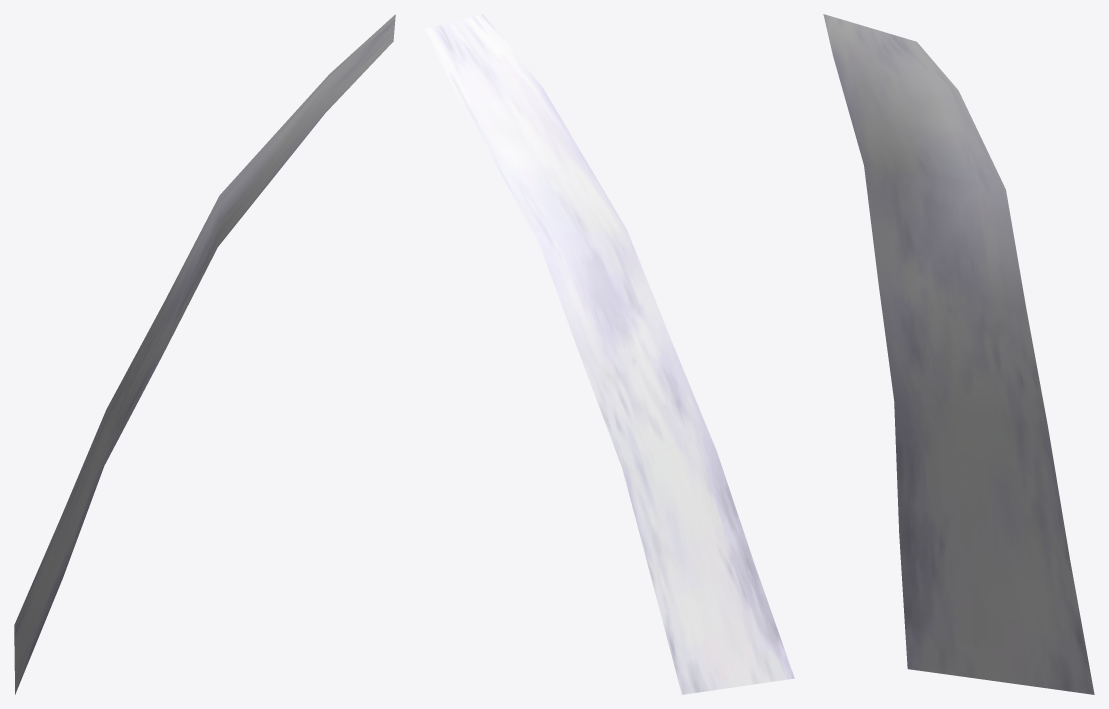
File: OM_p_a_river_08f_00_17_0_13.fbx
The picture shows the model from 3 angles, left to right: view 1: azimuth 30°, elevation 25°; view 2: azimuth 150°, elevation 25°; view 3: azimuth 270°, elevation 25°; orthographic projection. The views are drawn at different scales.
Visible parts, largest first — view 1: OM_p_a_river_08f_00_17_0_13; view 2: OM_p_a_river_08f_00_17_0_13; view 3: OM_p_a_river_08f_00_17_0_13.
Boxes of the visible parts, x1=… form: OM_p_a_river_08f_00_17_0_13: x1=14, y1=14, x2=395, y2=694; OM_p_a_river_08f_00_17_0_13: x1=424, y1=14, x2=794, y2=694; OM_p_a_river_08f_00_17_0_13: x1=823, y1=14, x2=1094, y2=694.
Size of the model in its own units: 4.96 by 7.26 by 1.93.
